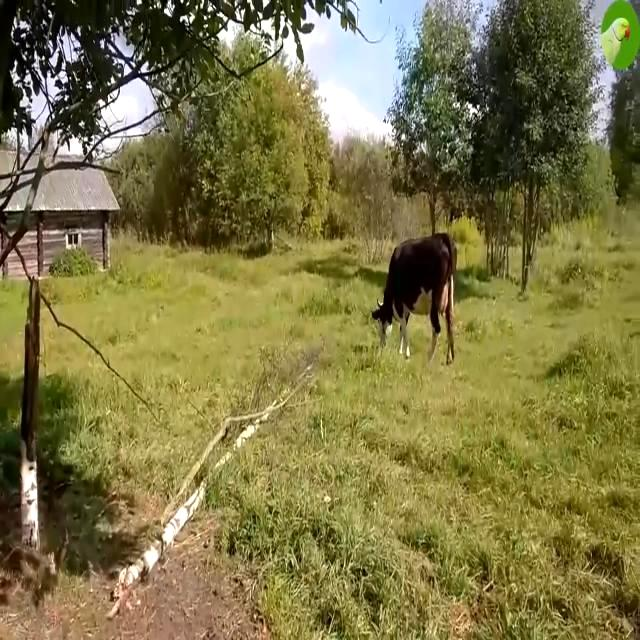COW: (371, 232, 456, 363)
